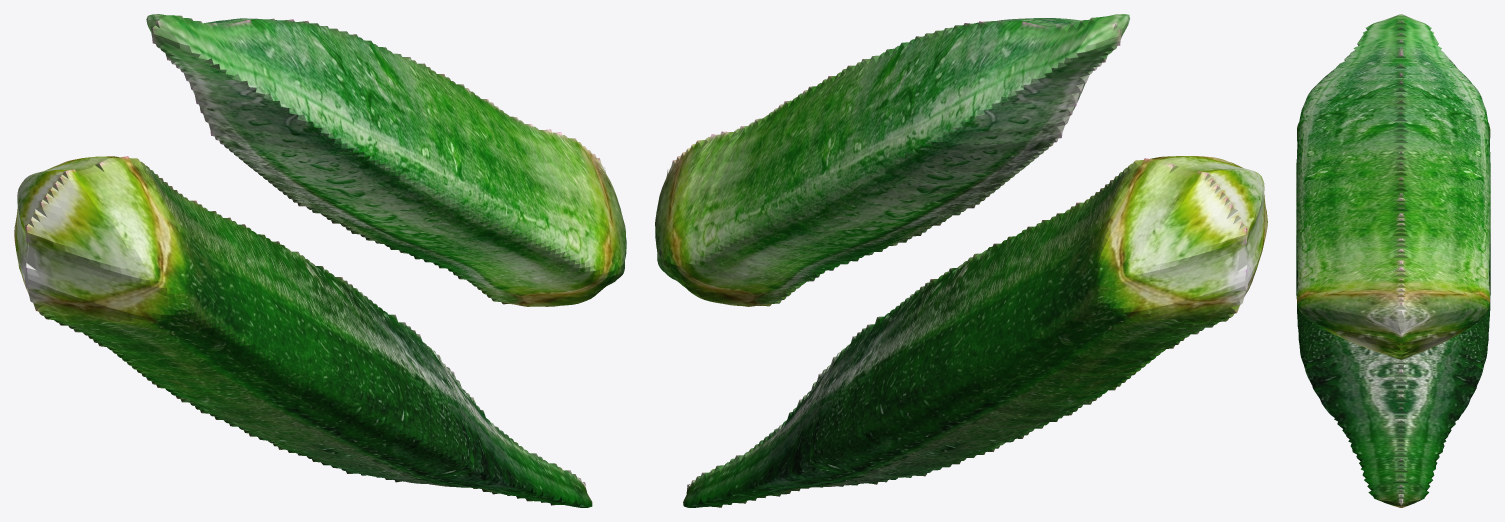
File: okra.glb
3 views of the same model, side by side, from view 1: azimuth 30°, elevation 25°; view 2: azimuth 150°, elevation 25°; view 3: azimuth 270°, elevation 25° (orthographic). The views are drawn at different scales.
Parts seen in each view (by area): view 1: Okra; view 2: Okra; view 3: Okra.
Part boxes in pixels (<box>): Okra: <box>14,14,626,507</box>; Okra: <box>655,14,1267,507</box>; Okra: <box>1296,14,1490,507</box>.
Bounding box in the file's own units: 1.39 × 1.34 × 0.645.
Materials: 1 (1 with a texture image).
